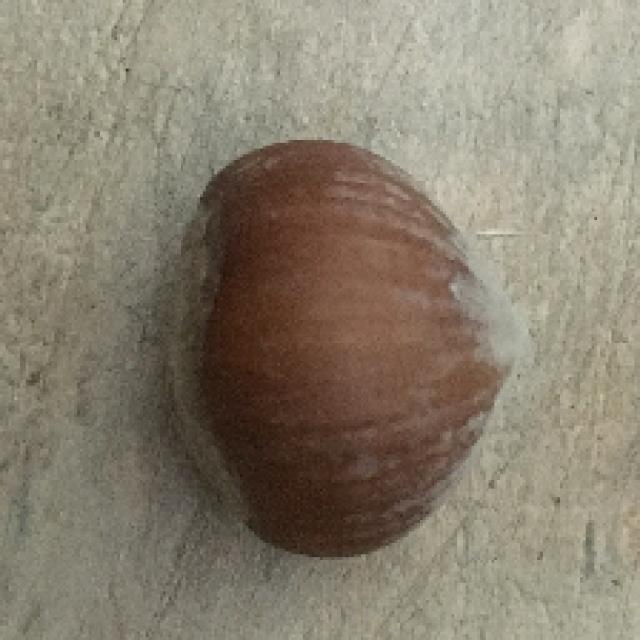qualityHazelnut: (148, 137, 526, 562)
